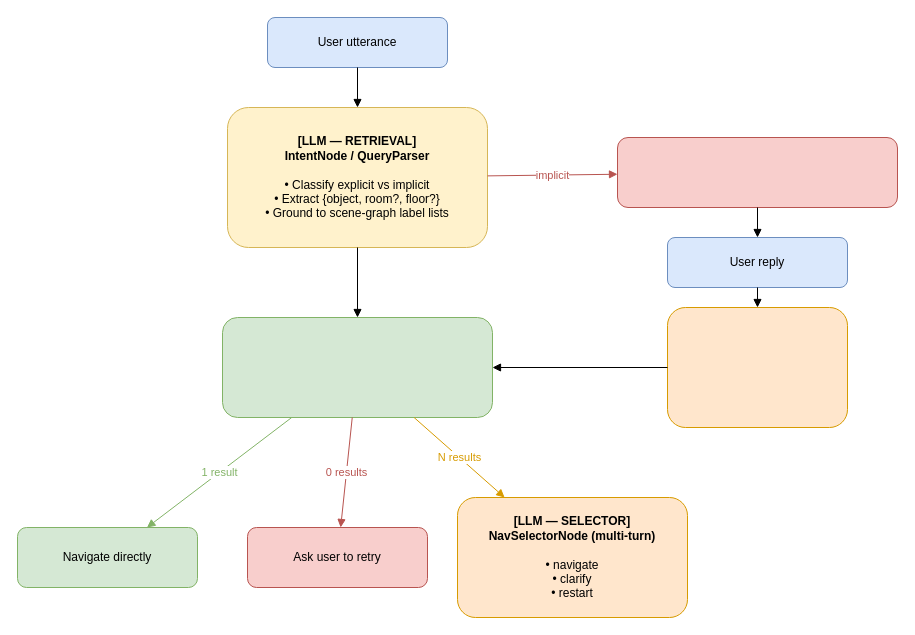
This 915x635 diagram has some shape labels left out. The shapes that lost their labels are listed below. From the top down, each one's centre as x and y in pixels, then its label:
At point (757, 172): "SuggestEmitNode (template / LLM clarification question)".
At point (357, 367): "SearchNode (scene-graph query, VLM re-ranking if slow_reasoning=True)".
At point (757, 367): "[LLM — SELECTOR] SuggestClassifyNode • explicit_choice • ambiguous • new_intent".
